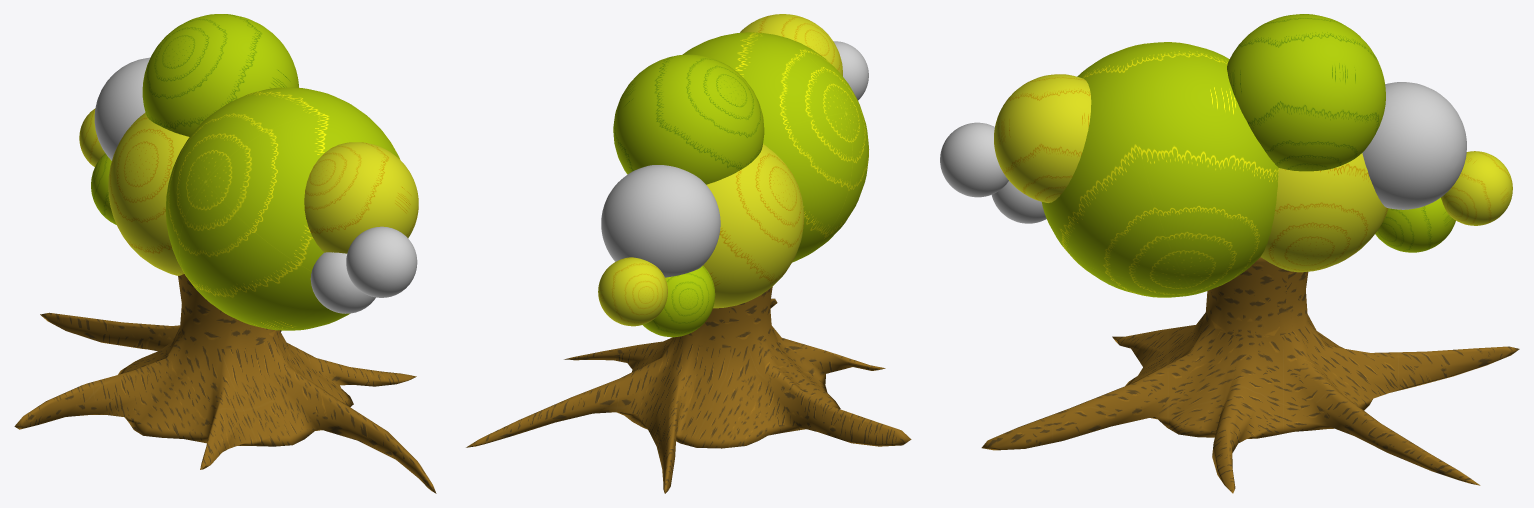
Rendered from MotherTree.fbx.
The picture shows the model from 3 angles, left to right: view 1: azimuth 30°, elevation 25°; view 2: azimuth 150°, elevation 25°; view 3: azimuth 270°, elevation 25°; orthographic projection. The views are drawn at different scales.
Parts seen in each view (by area): view 1: pSphere3, pCylinder1, pSphere4, pSphere8, pSphere2, pSphere7, pSphere1, pSphere9, pSphere6, pSphere5; view 2: pCylinder1, pSphere3, pSphere4, pSphere2, pSphere1, pSphere5, pSphere6, pSphere8, pSphere7; view 3: pSphere3, pCylinder1, pSphere4, pSphere2, pSphere1, pSphere8, pSphere5, pSphere7, pSphere6, pSphere9.
Boxes of the visible parts, x1,y1,x2,y2 form: pSphere3: (165, 87, 400, 330); pCylinder1: (14, 274, 436, 493); pSphere4: (142, 14, 298, 136); pSphere8: (304, 142, 418, 253); pSphere2: (108, 112, 189, 275); pSphere7: (346, 226, 417, 297); pSphere1: (94, 57, 149, 160); pSphere9: (310, 252, 375, 313); pSphere6: (91, 153, 116, 224); pSphere5: (79, 108, 104, 166); pCylinder1: (466, 287, 911, 493); pSphere3: (682, 32, 869, 262); pSphere4: (613, 54, 764, 184); pSphere2: (703, 144, 804, 308); pSphere1: (601, 165, 720, 277); pSphere5: (598, 257, 667, 326); pSphere6: (643, 265, 715, 337); pSphere8: (740, 14, 842, 76); pSphere7: (833, 41, 868, 100); pSphere3: (1042, 42, 1278, 297); pCylinder1: (981, 257, 1519, 493); pSphere4: (1227, 14, 1385, 171); pSphere2: (1260, 153, 1388, 272); pSphere1: (1362, 82, 1466, 209); pSphere8: (994, 74, 1091, 202); pSphere5: (1441, 151, 1512, 225); pSphere7: (940, 122, 1008, 197); pSphere6: (1375, 197, 1455, 252); pSphere9: (991, 181, 1046, 223).
Size of the model in its own units: 7.1 by 6.73 by 8.93.
